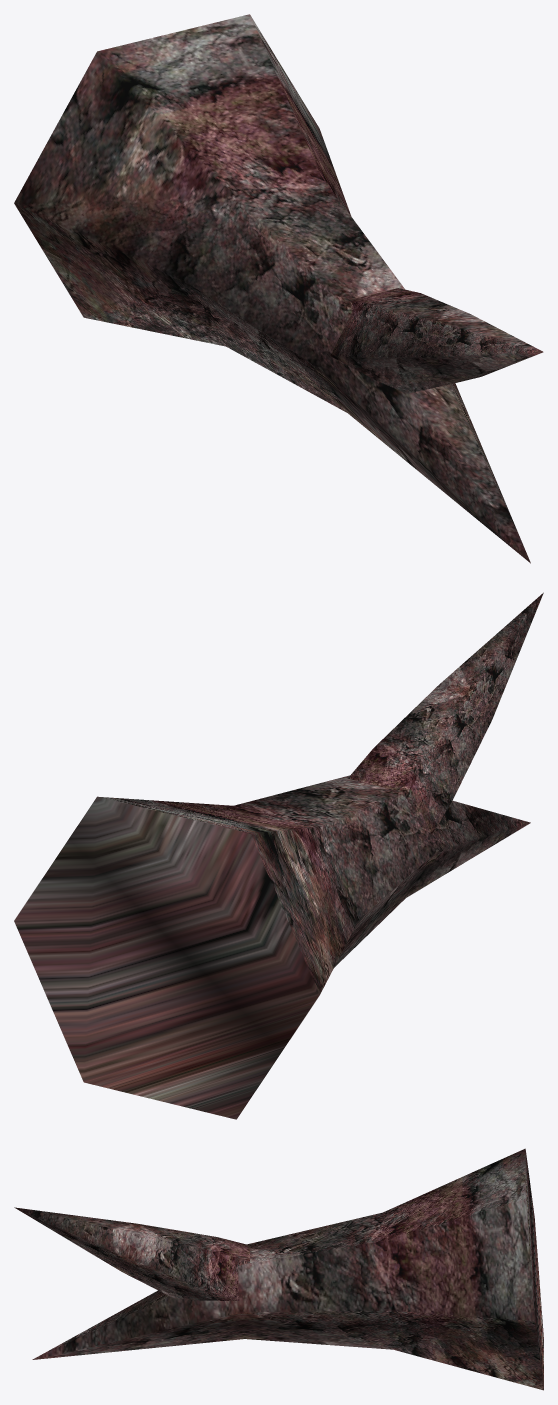
Rendered from stalagmite_09.obj.
3 views of the same model, one above another, from view 1: azimuth 30°, elevation 25°; view 2: azimuth 150°, elevation 25°; view 3: azimuth 270°, elevation 25° (orthographic). The views are drawn at different scales.
Parts seen in each view (by area): view 1: (null); view 2: (null); view 3: (null).
Part boxes in pixels (left/top/right/bottom): (null): left=14, top=14, right=543, bottom=563; (null): left=14, top=592, right=543, bottom=1119; (null): left=14, top=1148, right=543, bottom=1390.
Size of the model in its own units: 3.38 by 2.92 by 7.36.
